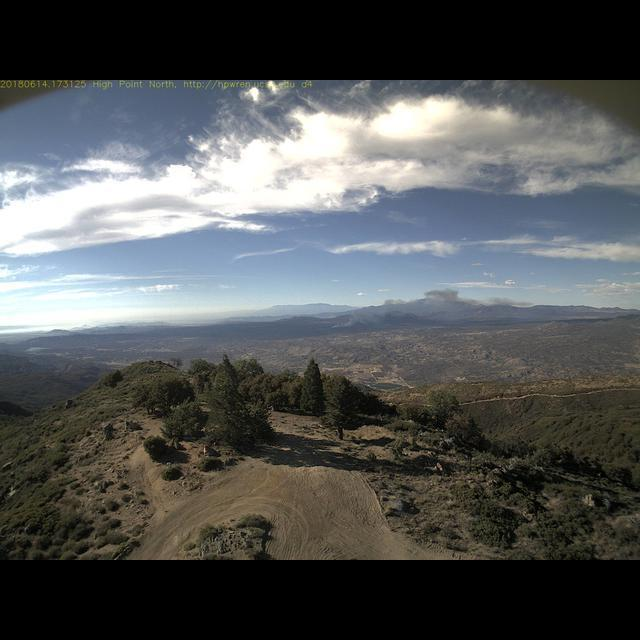Smoke: (328, 284, 529, 331)
